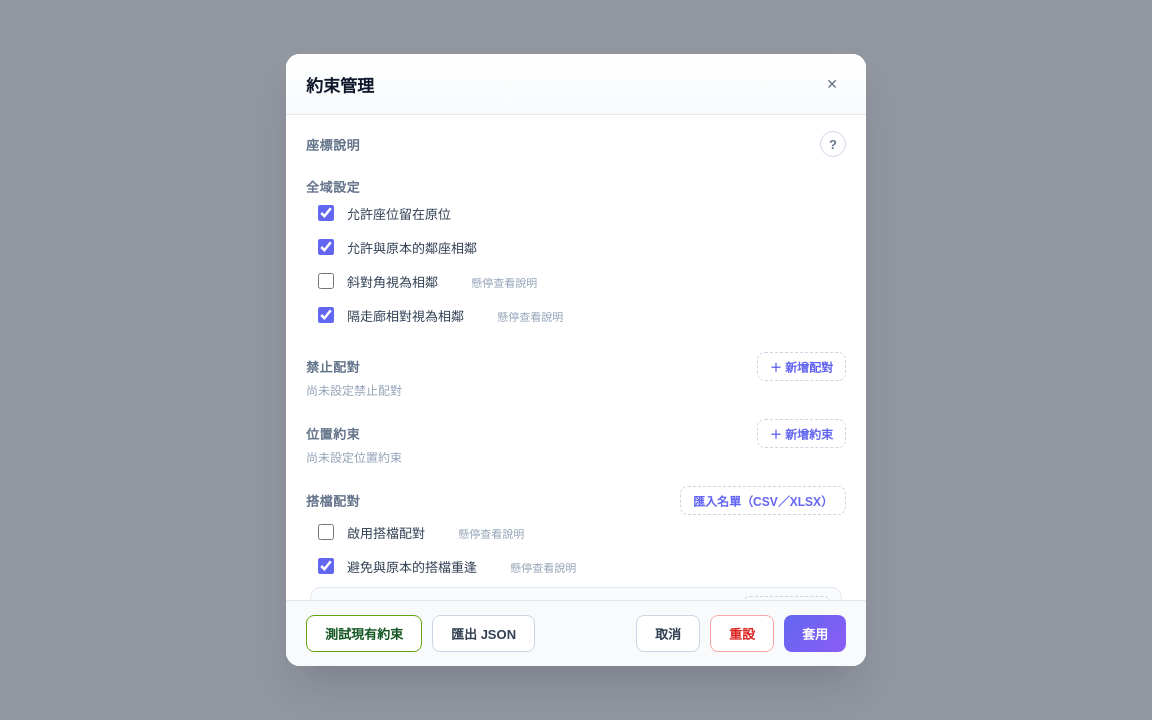
Test: ConstraintsEditor › 顯示座標說明（黑板在前、行/列定義、索引從 1 開始）
The image size is (1152, 720).
Click the button with class "note-toggle".
click(833, 144)  # box [820,131,846,157]
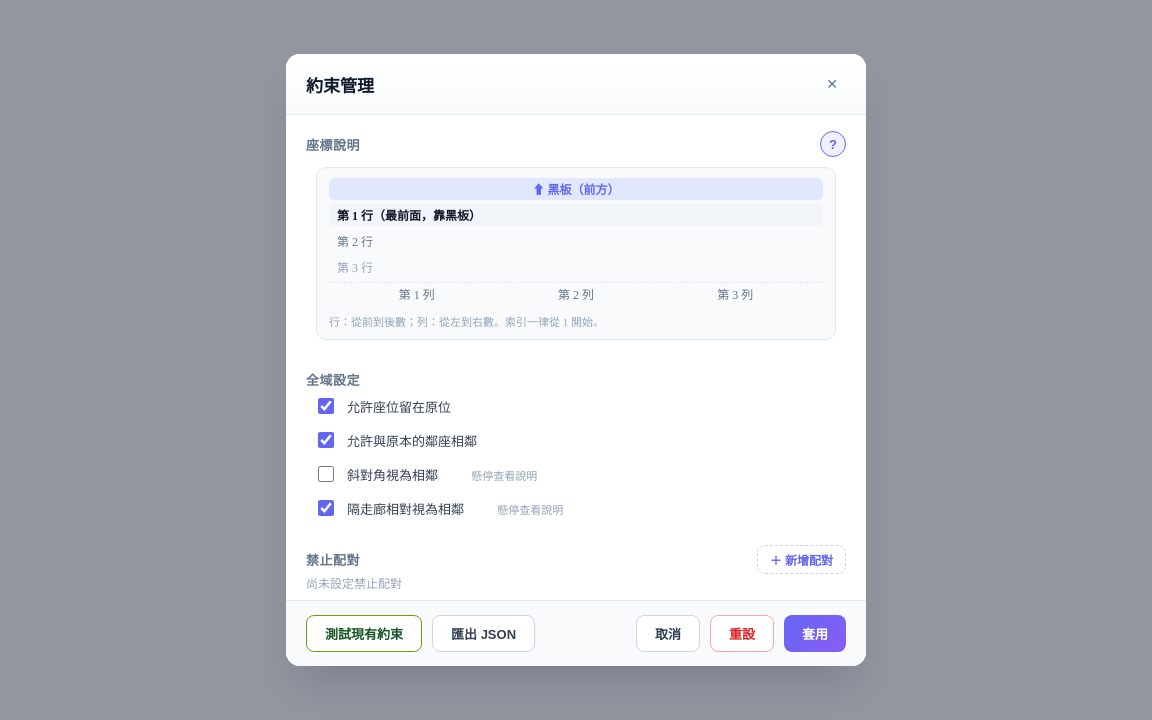
Result: the text "黑板（前方）" is shown at [532,183,620,197]
Result: the text "第 1 行（最前面，靠黑板）" is shown at [329,204,823,226]
Result: the text "第 1 列" is shown at [399,285,435,303]
